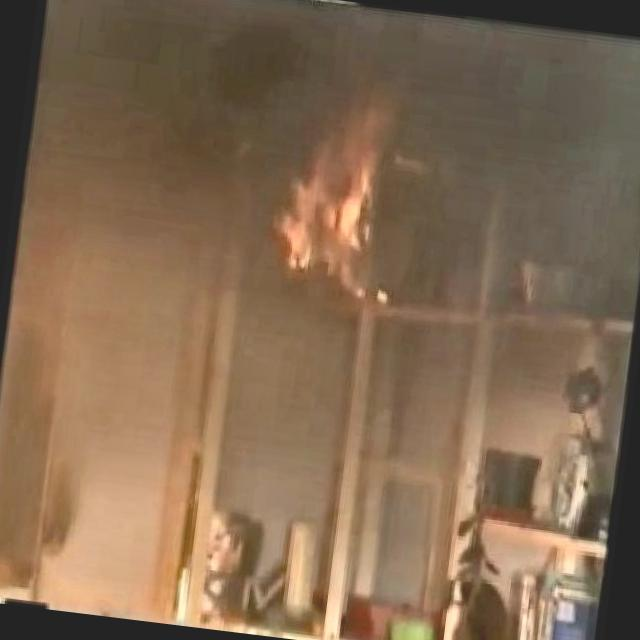fire: (255, 94, 422, 289)
